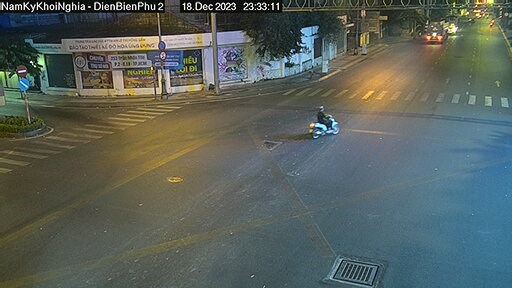motorbike: (305, 101, 344, 134)
truck: (425, 17, 449, 43)
